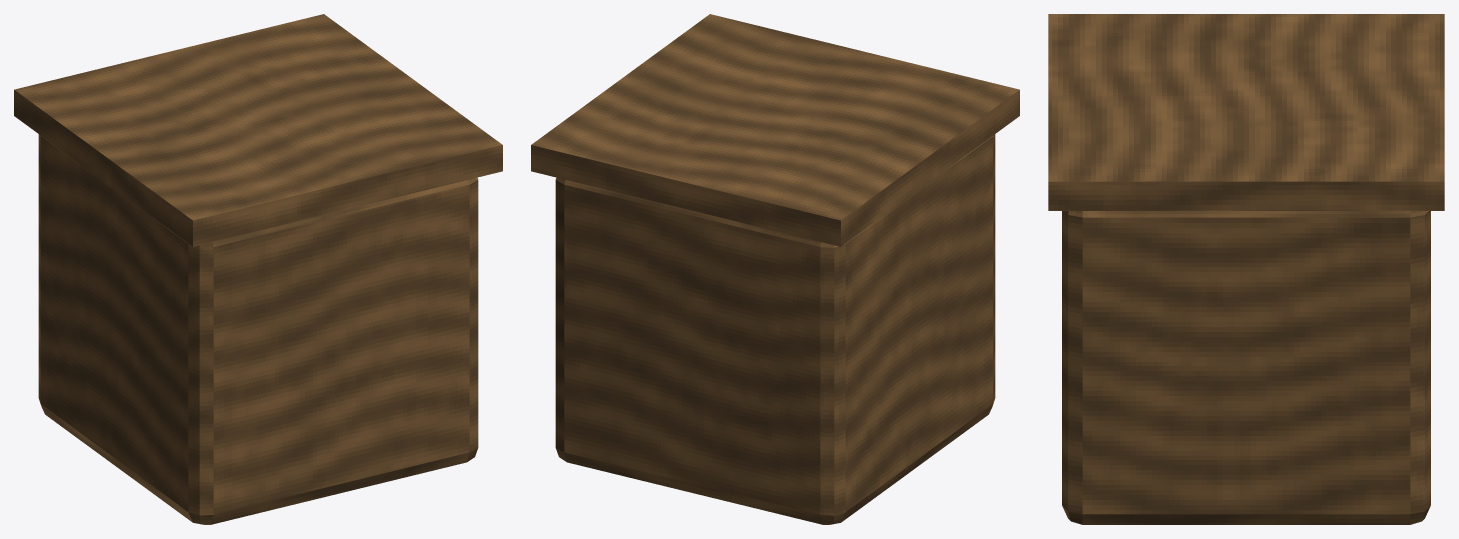
File: sandik.gltf
The picture shows the model from 3 angles, left to right: view 1: azimuth 30°, elevation 25°; view 2: azimuth 150°, elevation 25°; view 3: azimuth 270°, elevation 25°; orthographic projection. The views are drawn at different scales.
Parts seen in each view (by area): view 1: sandik; view 2: sandik; view 3: sandik.
Part boxes in pixels (left/top/right/bottom): sandik: left=14, top=14, right=502, bottom=524; sandik: left=531, top=14, right=1019, bottom=524; sandik: left=1048, top=14, right=1444, bottom=524.
Bounding box in the file's own units: 0.86 × 0.855 × 0.86.
Materials: 1 (1 with a texture image).
